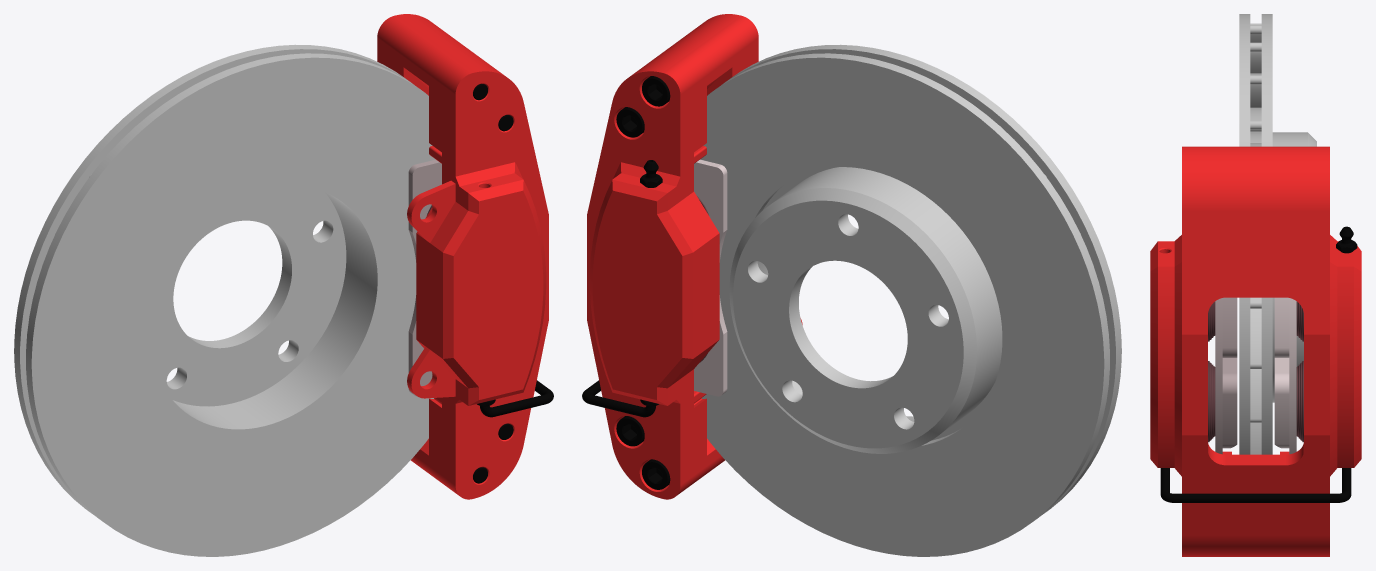
File: SepLRBrake.glb
3 renders of one model, left to right at view 1: azimuth 30°, elevation 25°; view 2: azimuth 150°, elevation 25°; view 3: azimuth 270°, elevation 25°, orthographic. The views are drawn at different scales.
Parts seen in each view (by area): view 1: Disk, Calliper, Pad_L, Screws; view 2: Disk, Calliper, Screws, Pad_R; view 3: Calliper, Disk, Pad_R, Pad_L, Screws, Washer_R, Washer_L.
Boxes of the visible parts, bbox=[...] form: Disk: bbox=[14, 44, 435, 556]; Calliper: bbox=[377, 14, 548, 499]; Pad_L: bbox=[408, 159, 441, 396]; Screws: bbox=[473, 84, 553, 483]; Disk: bbox=[700, 44, 1121, 556]; Calliper: bbox=[587, 14, 802, 499]; Screws: bbox=[582, 76, 670, 489]; Pad_R: bbox=[694, 159, 727, 396]; Calliper: bbox=[1150, 146, 1361, 556]; Disk: bbox=[1239, 14, 1316, 454]; Pad_R: bbox=[1274, 297, 1296, 454]; Pad_L: bbox=[1215, 297, 1237, 454]; Screws: bbox=[1160, 226, 1357, 502]; Washer_R: bbox=[1296, 301, 1303, 442]; Washer_L: bbox=[1208, 301, 1215, 442].
Bounding box in the file's own units: 0.287 × 0.274 × 0.114.
